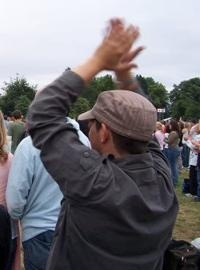person without safety: (25, 75, 180, 270)
